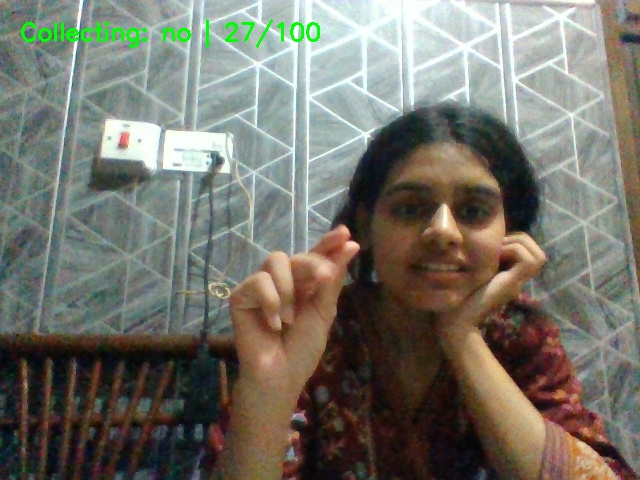no: (221, 200, 379, 408)
